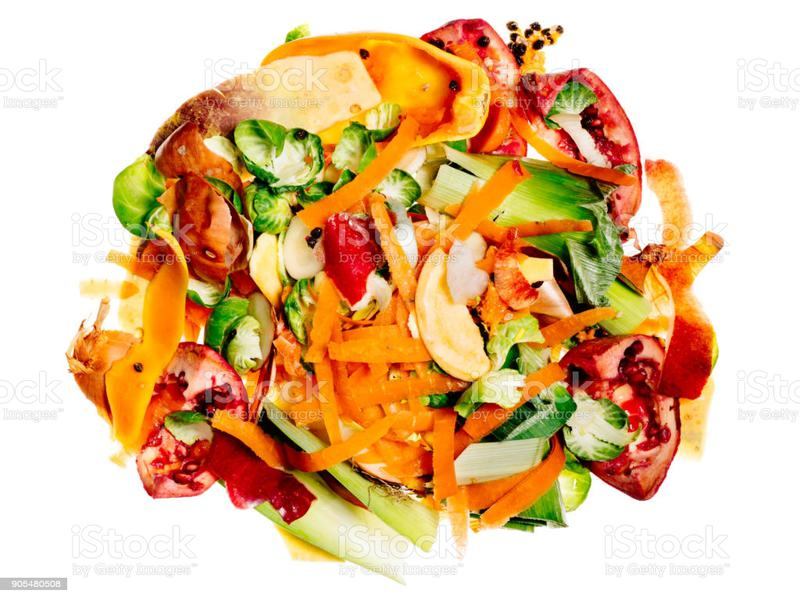vegetation: (72, 15, 737, 579)
